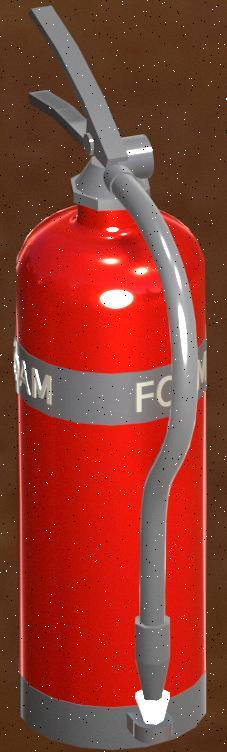Fire Extinguisher: (6, 0, 227, 752)
